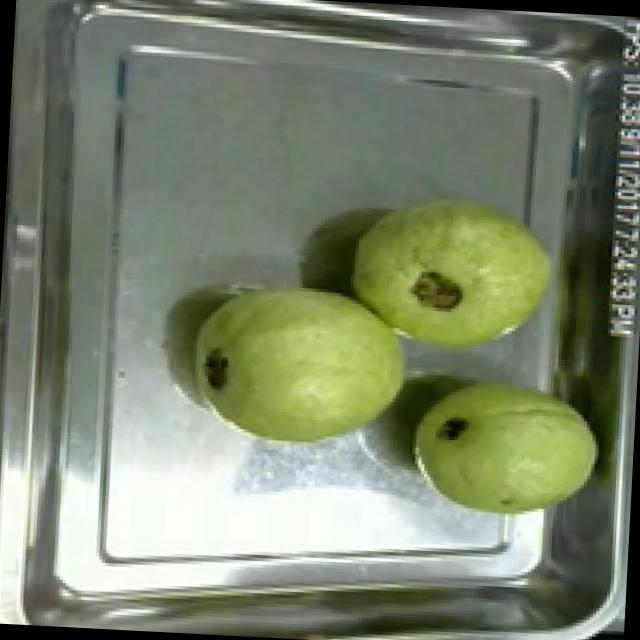Fruit: (178, 268, 422, 460), (337, 180, 567, 368), (396, 360, 622, 534)
